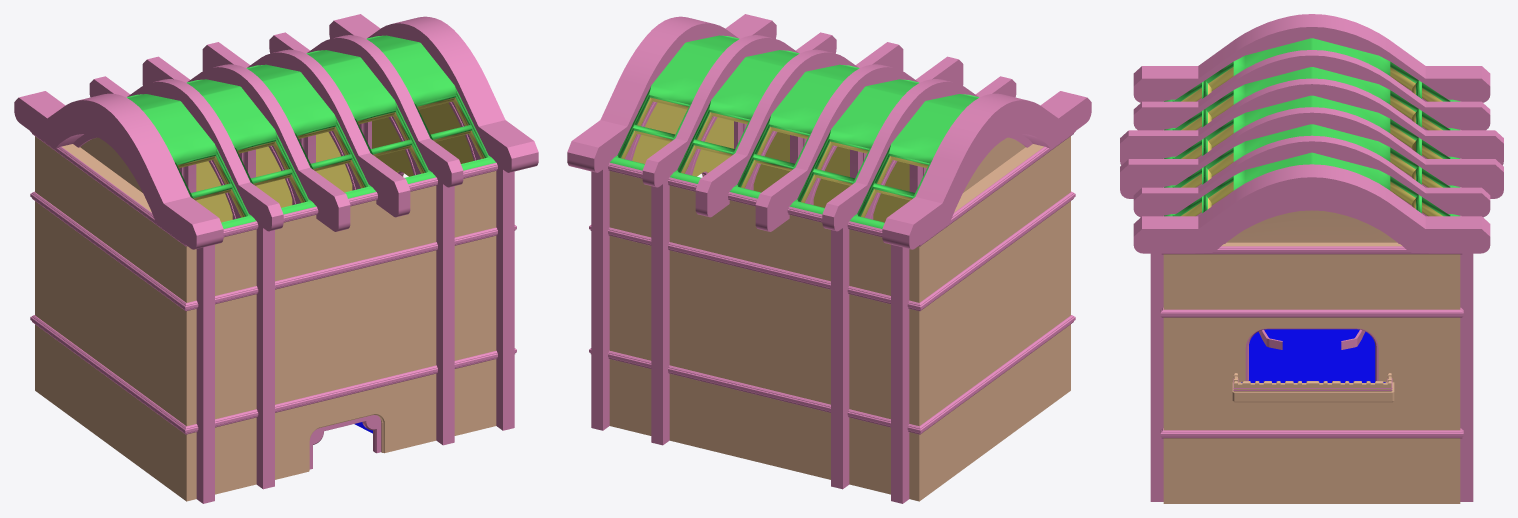
The model's file is Museum.fbx.
3 views of the same model, side by side, from view 1: azimuth 30°, elevation 25°; view 2: azimuth 150°, elevation 25°; view 3: azimuth 270°, elevation 25° (orthographic). The views are drawn at different scales.
Parts seen in each view (by area): view 1: Museum.001; view 2: Museum.001; view 3: Museum.001.
Part boxes in pixels (x1=…): Museum.001: x1=14, y1=14, x2=538, y2=503; Museum.001: x1=567, y1=14, x2=1091, y2=503; Museum.001: x1=1120, y1=14, x2=1503, y2=503.
Bounding box in the file's own units: 8132 × 7516 × 7841.
